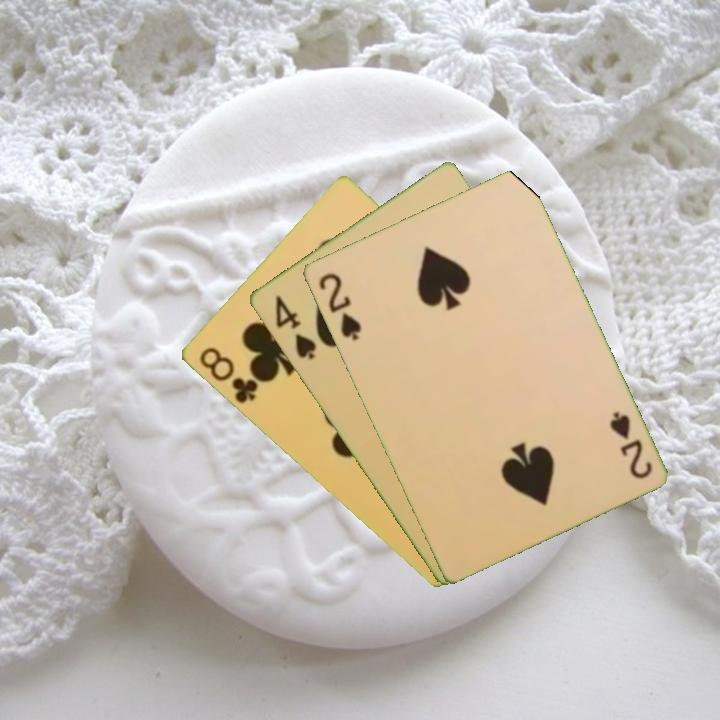2s: (314, 269, 364, 344), (605, 407, 655, 482)
4s: (271, 291, 319, 363)
8c: (195, 343, 261, 407)
